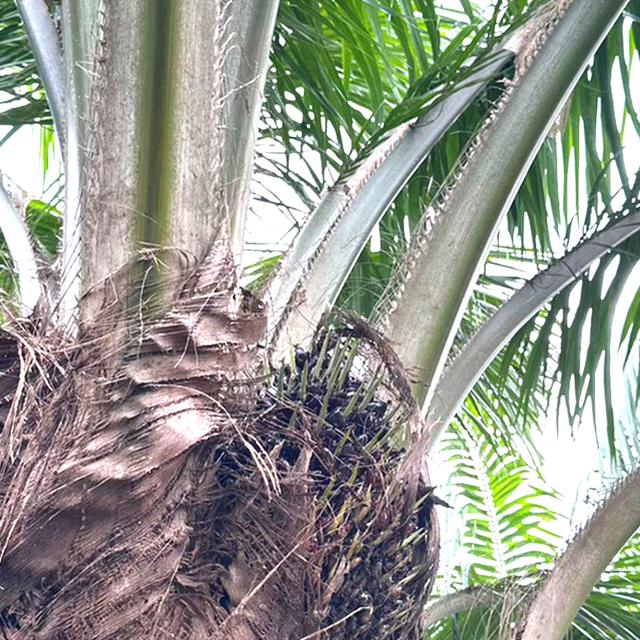unripe: (222, 319, 444, 640)
